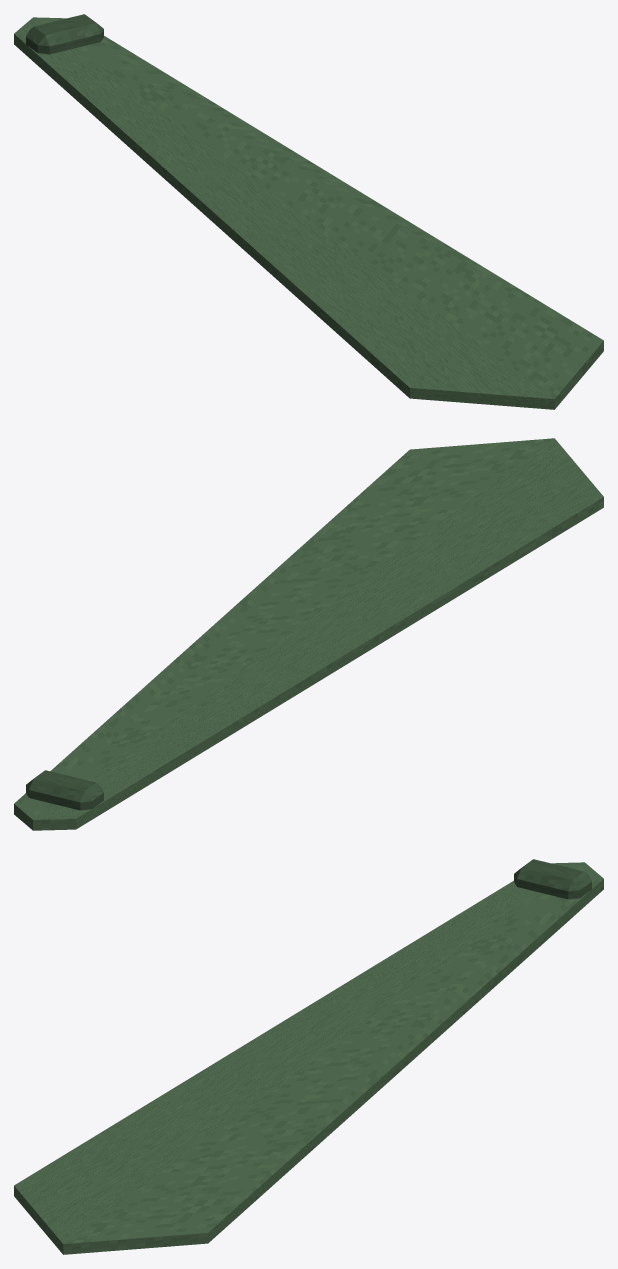
Rendered from tie_necktie.glb.
The picture shows the model from 3 angles, top to bottom: view 1: azimuth 30°, elevation 25°; view 2: azimuth 150°, elevation 25°; view 3: azimuth 330°, elevation 25°; orthographic projection.
Visible parts, largest first — view 1: block_silk panel -1, block_silk panel 1, block_knot; view 2: block_silk panel -1, block_silk panel 1, block_knot; view 3: block_silk panel 1, block_silk panel -1, block_knot.
Boxes of the visible parts, x1=… form: block_silk panel -1: x1=14, y1=17, x2=554, y2=409; block_silk panel 1: x1=33, y1=17, x2=603, y2=409; block_knot: x1=26, y1=14, x2=103, y2=54; block_silk panel -1: x1=33, y1=438, x2=603, y2=830; block_silk panel 1: x1=14, y1=438, x2=553, y2=830; block_knot: x1=26, y1=770, x2=103, y2=810; block_silk panel 1: x1=63, y1=862, x2=603, y2=1254; block_silk panel -1: x1=14, y1=862, x2=584, y2=1254; block_knot: x1=514, y1=859, x2=591, y2=899.
Size of the model in its own units: 0.076 by 0.01 by 0.3537.
Materials: 1 (1 with a texture image).
